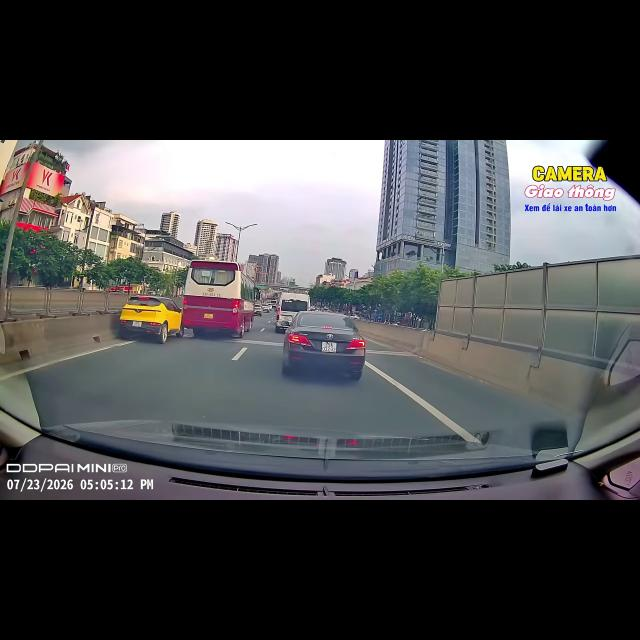bus: (182, 261, 259, 337)
car: (282, 311, 365, 379), (119, 296, 184, 343), (275, 293, 310, 332), (254, 305, 262, 316), (262, 304, 270, 312)
